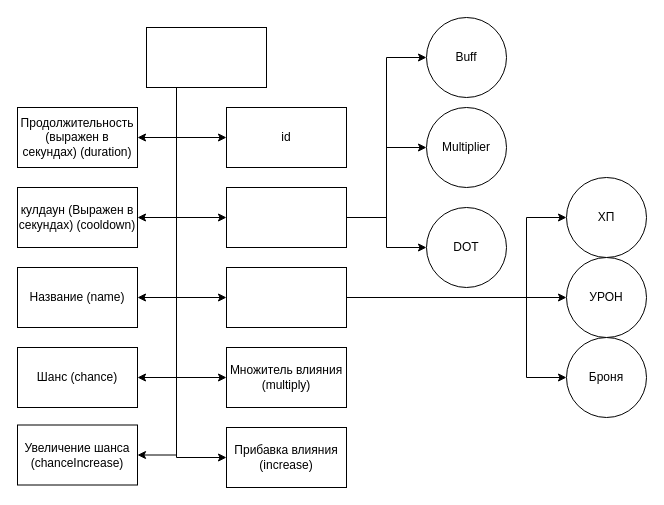
Image size: 664x505. Some labels were removed from this diagram. The shapes that lost their labels are listed below. From the top down, each one's box as (x1, y1, x2, y2) in pixels, then its label:
(146, 26, 266, 88): Справочник предметов
(226, 186, 346, 248): Тип (type)
(226, 266, 346, 328): Стата, на которую влияет (parameter)
